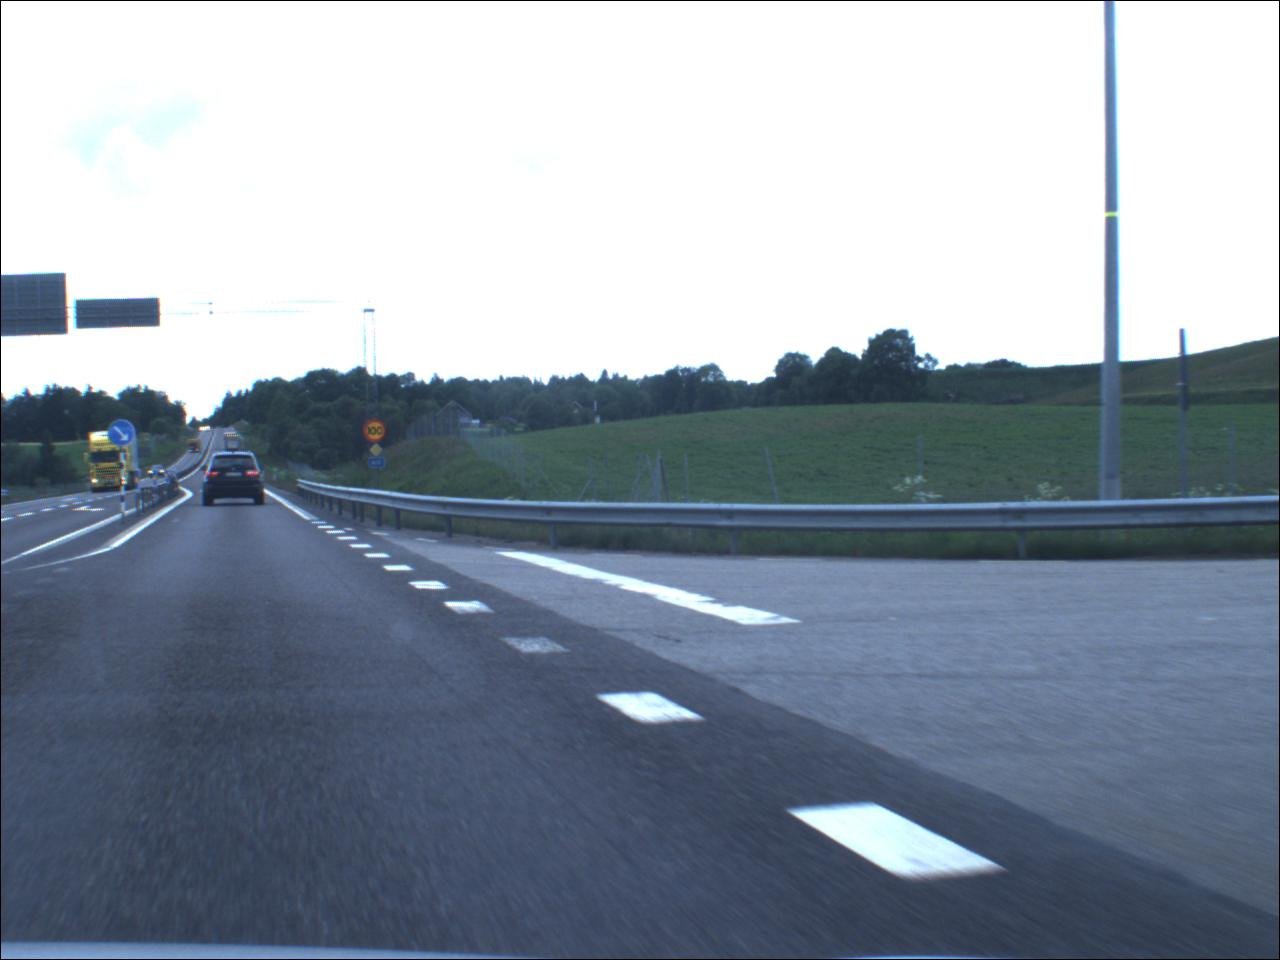100_SIGN: (366, 421, 389, 445)
PASS_RIGHT_SIDE: (110, 419, 138, 446)
PRIORITY_ROAD: (371, 445, 386, 458)
